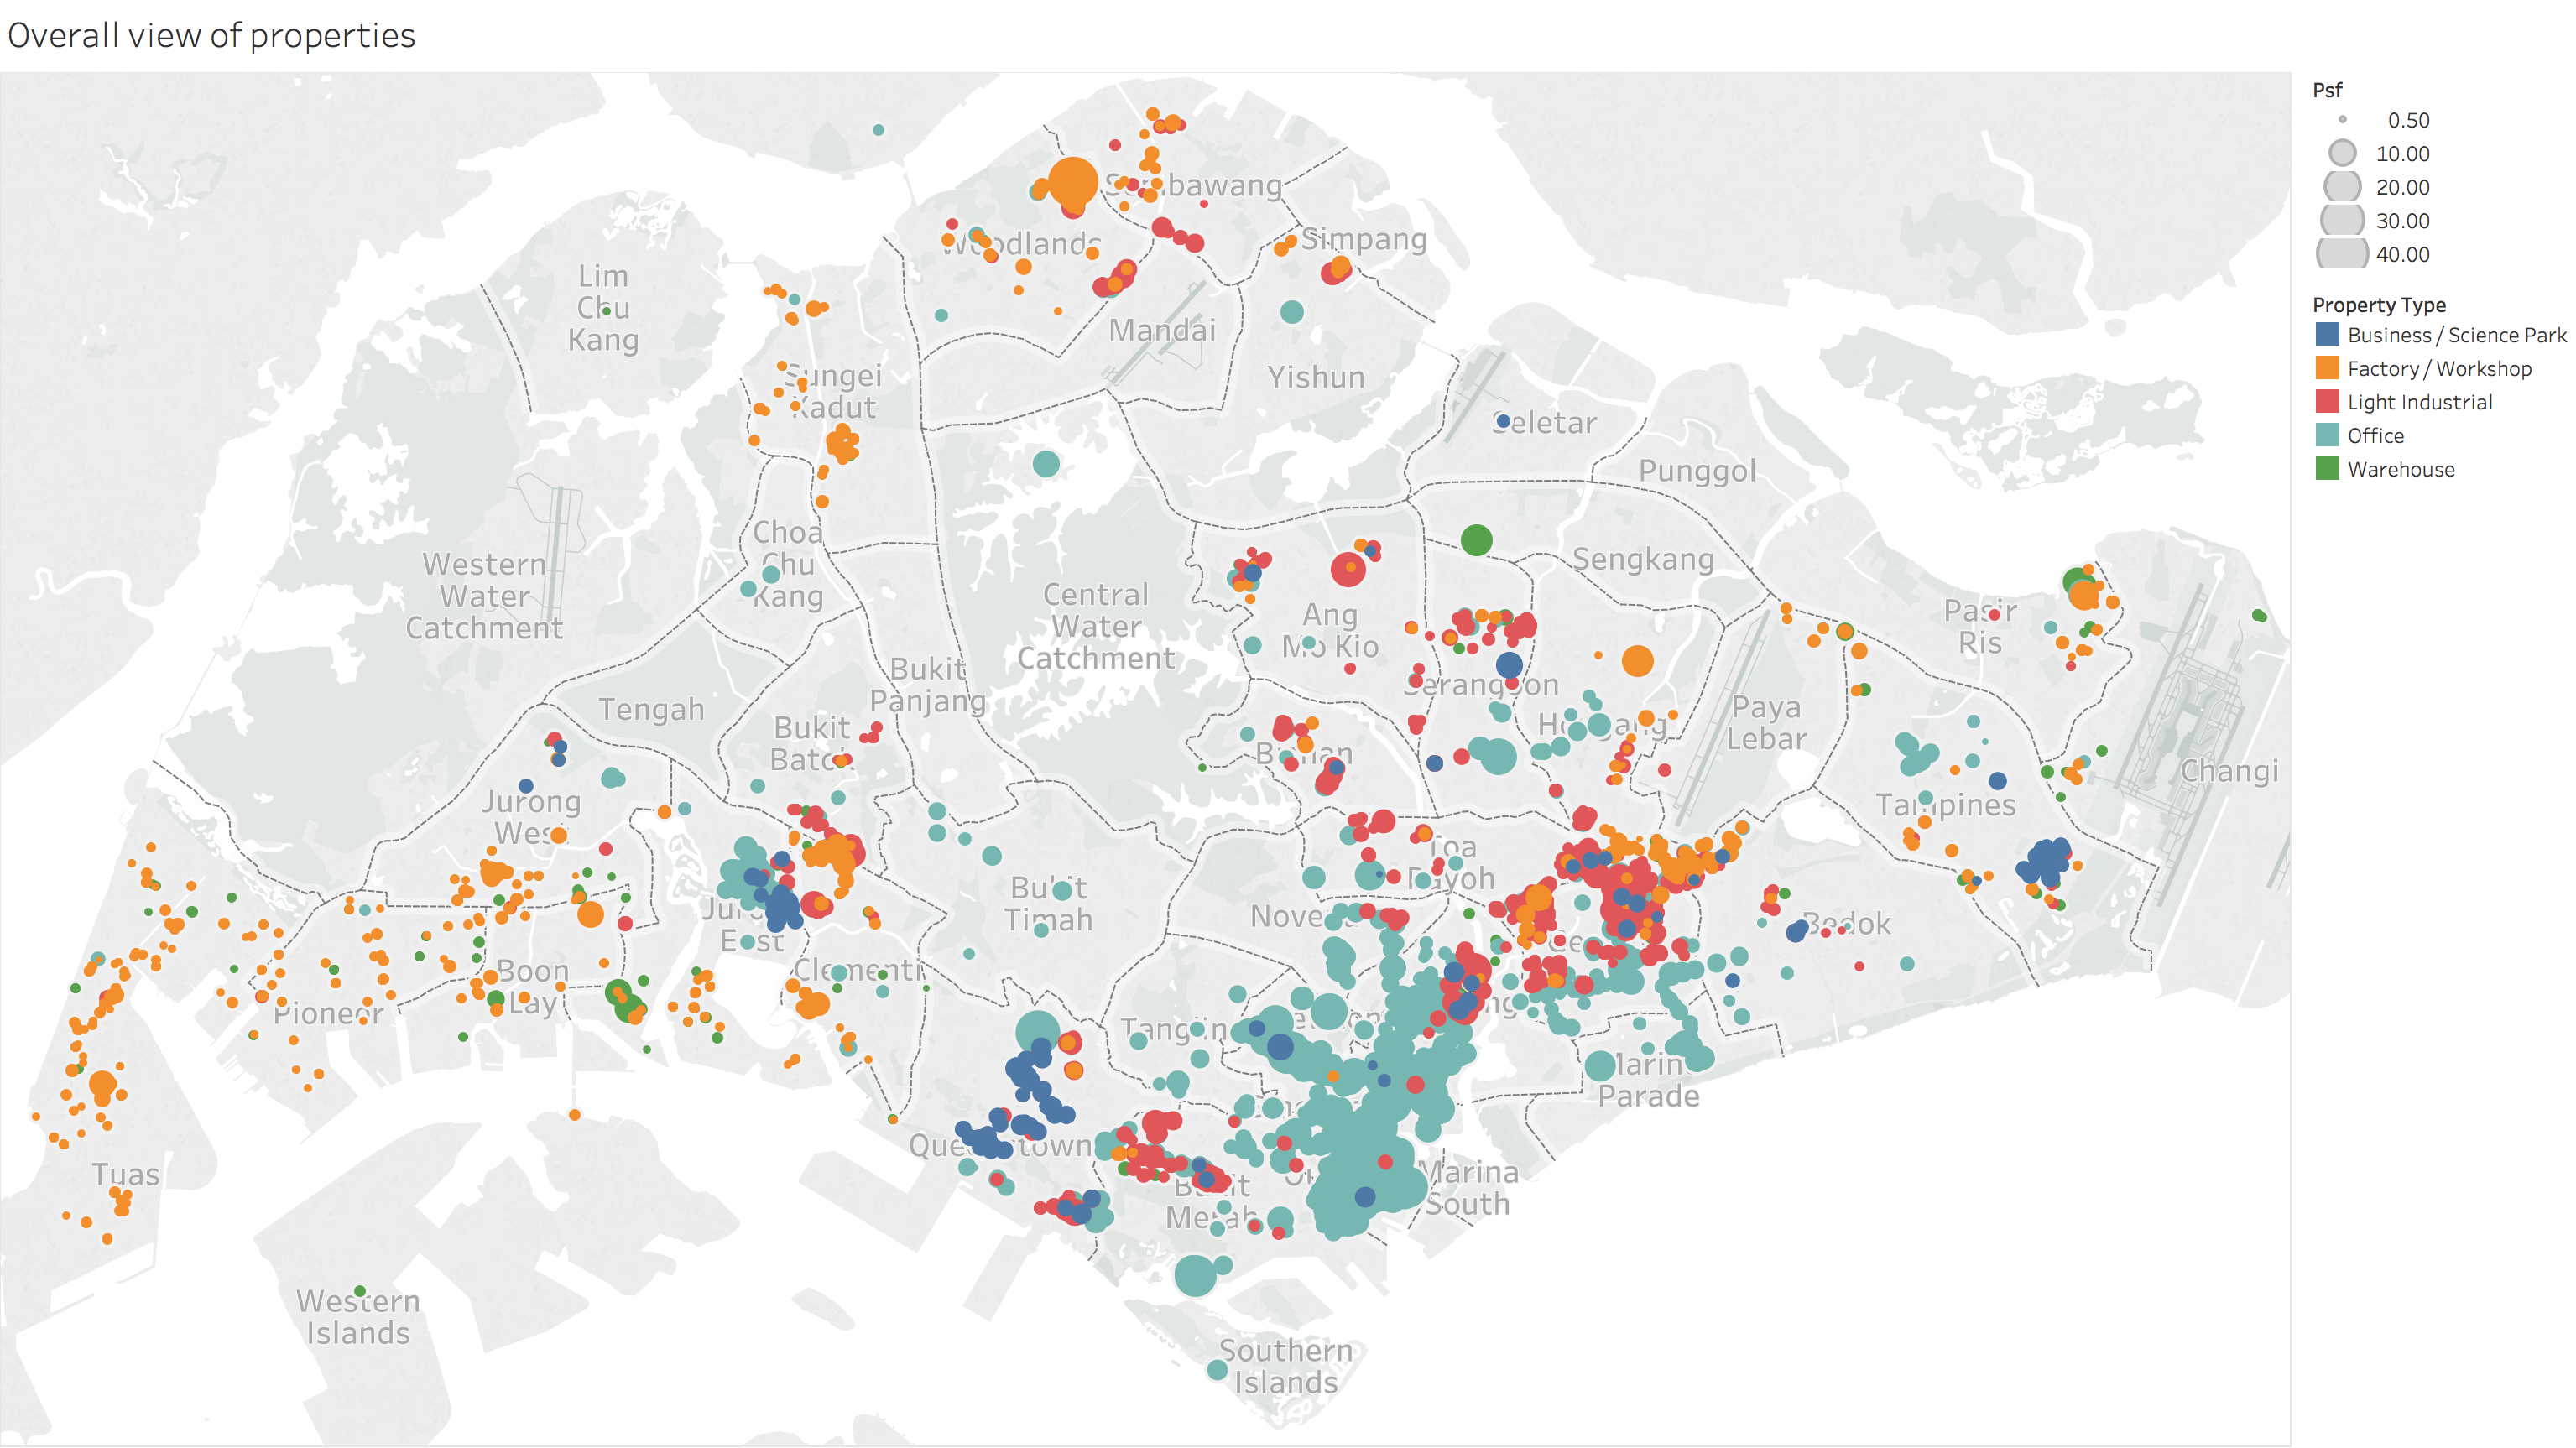

This screenshot's page, from the dashboard's own definition file:
{"tool":"tableau","page":{"name":"Dashboard 1","canvas":[1000,1000],"units":"permille","ordinal":0},"visuals":[{"type":"worksheet","title":"All","mark":"Circle","rows":["lat"],"cols":["lon"],"box":[4.7,8.5,897,983]},{"type":"filter","title":"All","param":"[federated.1927uhd1qy7aqd1f6aa2719t1xgz].[none:lease:nk]","box":[901.7,8.5,93.6,195.1]},{"type":"filter","title":"All","param":"[federated.1927uhd1qy7aqd1f6aa2719t1xgz].[none:Ascendas_Building:nk]","box":[901.7,203.6,93.6,94.4]},{"type":"legend","title":"All","param":"[federated.1927uhd1qy7aqd1f6aa2719t1xgz].[none:Property Type:nk]","box":[901.7,298,93.6,133.6]},{"type":"legend","title":"All","param":"[federated.1927uhd1qy7aqd1f6aa2719t1xgz].[none:psf:qk]","box":[901.7,431.6,93.6,133.6]}]}

Visuals, with their boxes on the dashboard's canvas, which has no fixed pixel size, in thousandths of its width and height (x1, y1, x2, y2). These are canvas units, not pixel positions in the 2576x1448 screenshot, which may show the page scaled, cropped or inside an application window:
"All" worksheet (Circle marks): [left=5, top=8, right=902, bottom=992]
"All" filter: [left=902, top=8, right=995, bottom=204]
"All" filter: [left=902, top=204, right=995, bottom=298]
"All" legend: [left=902, top=298, right=995, bottom=432]
"All" legend: [left=902, top=432, right=995, bottom=565]
